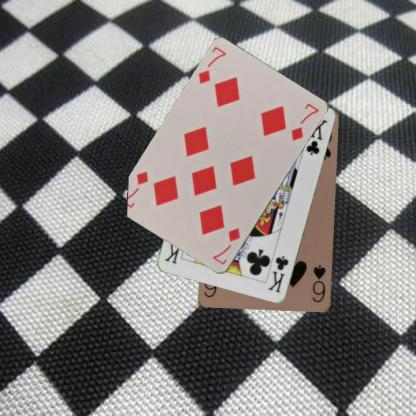6s: (310, 262, 327, 304)
7d: (195, 44, 228, 86), (210, 226, 242, 266)
Kc: (265, 253, 290, 294)
